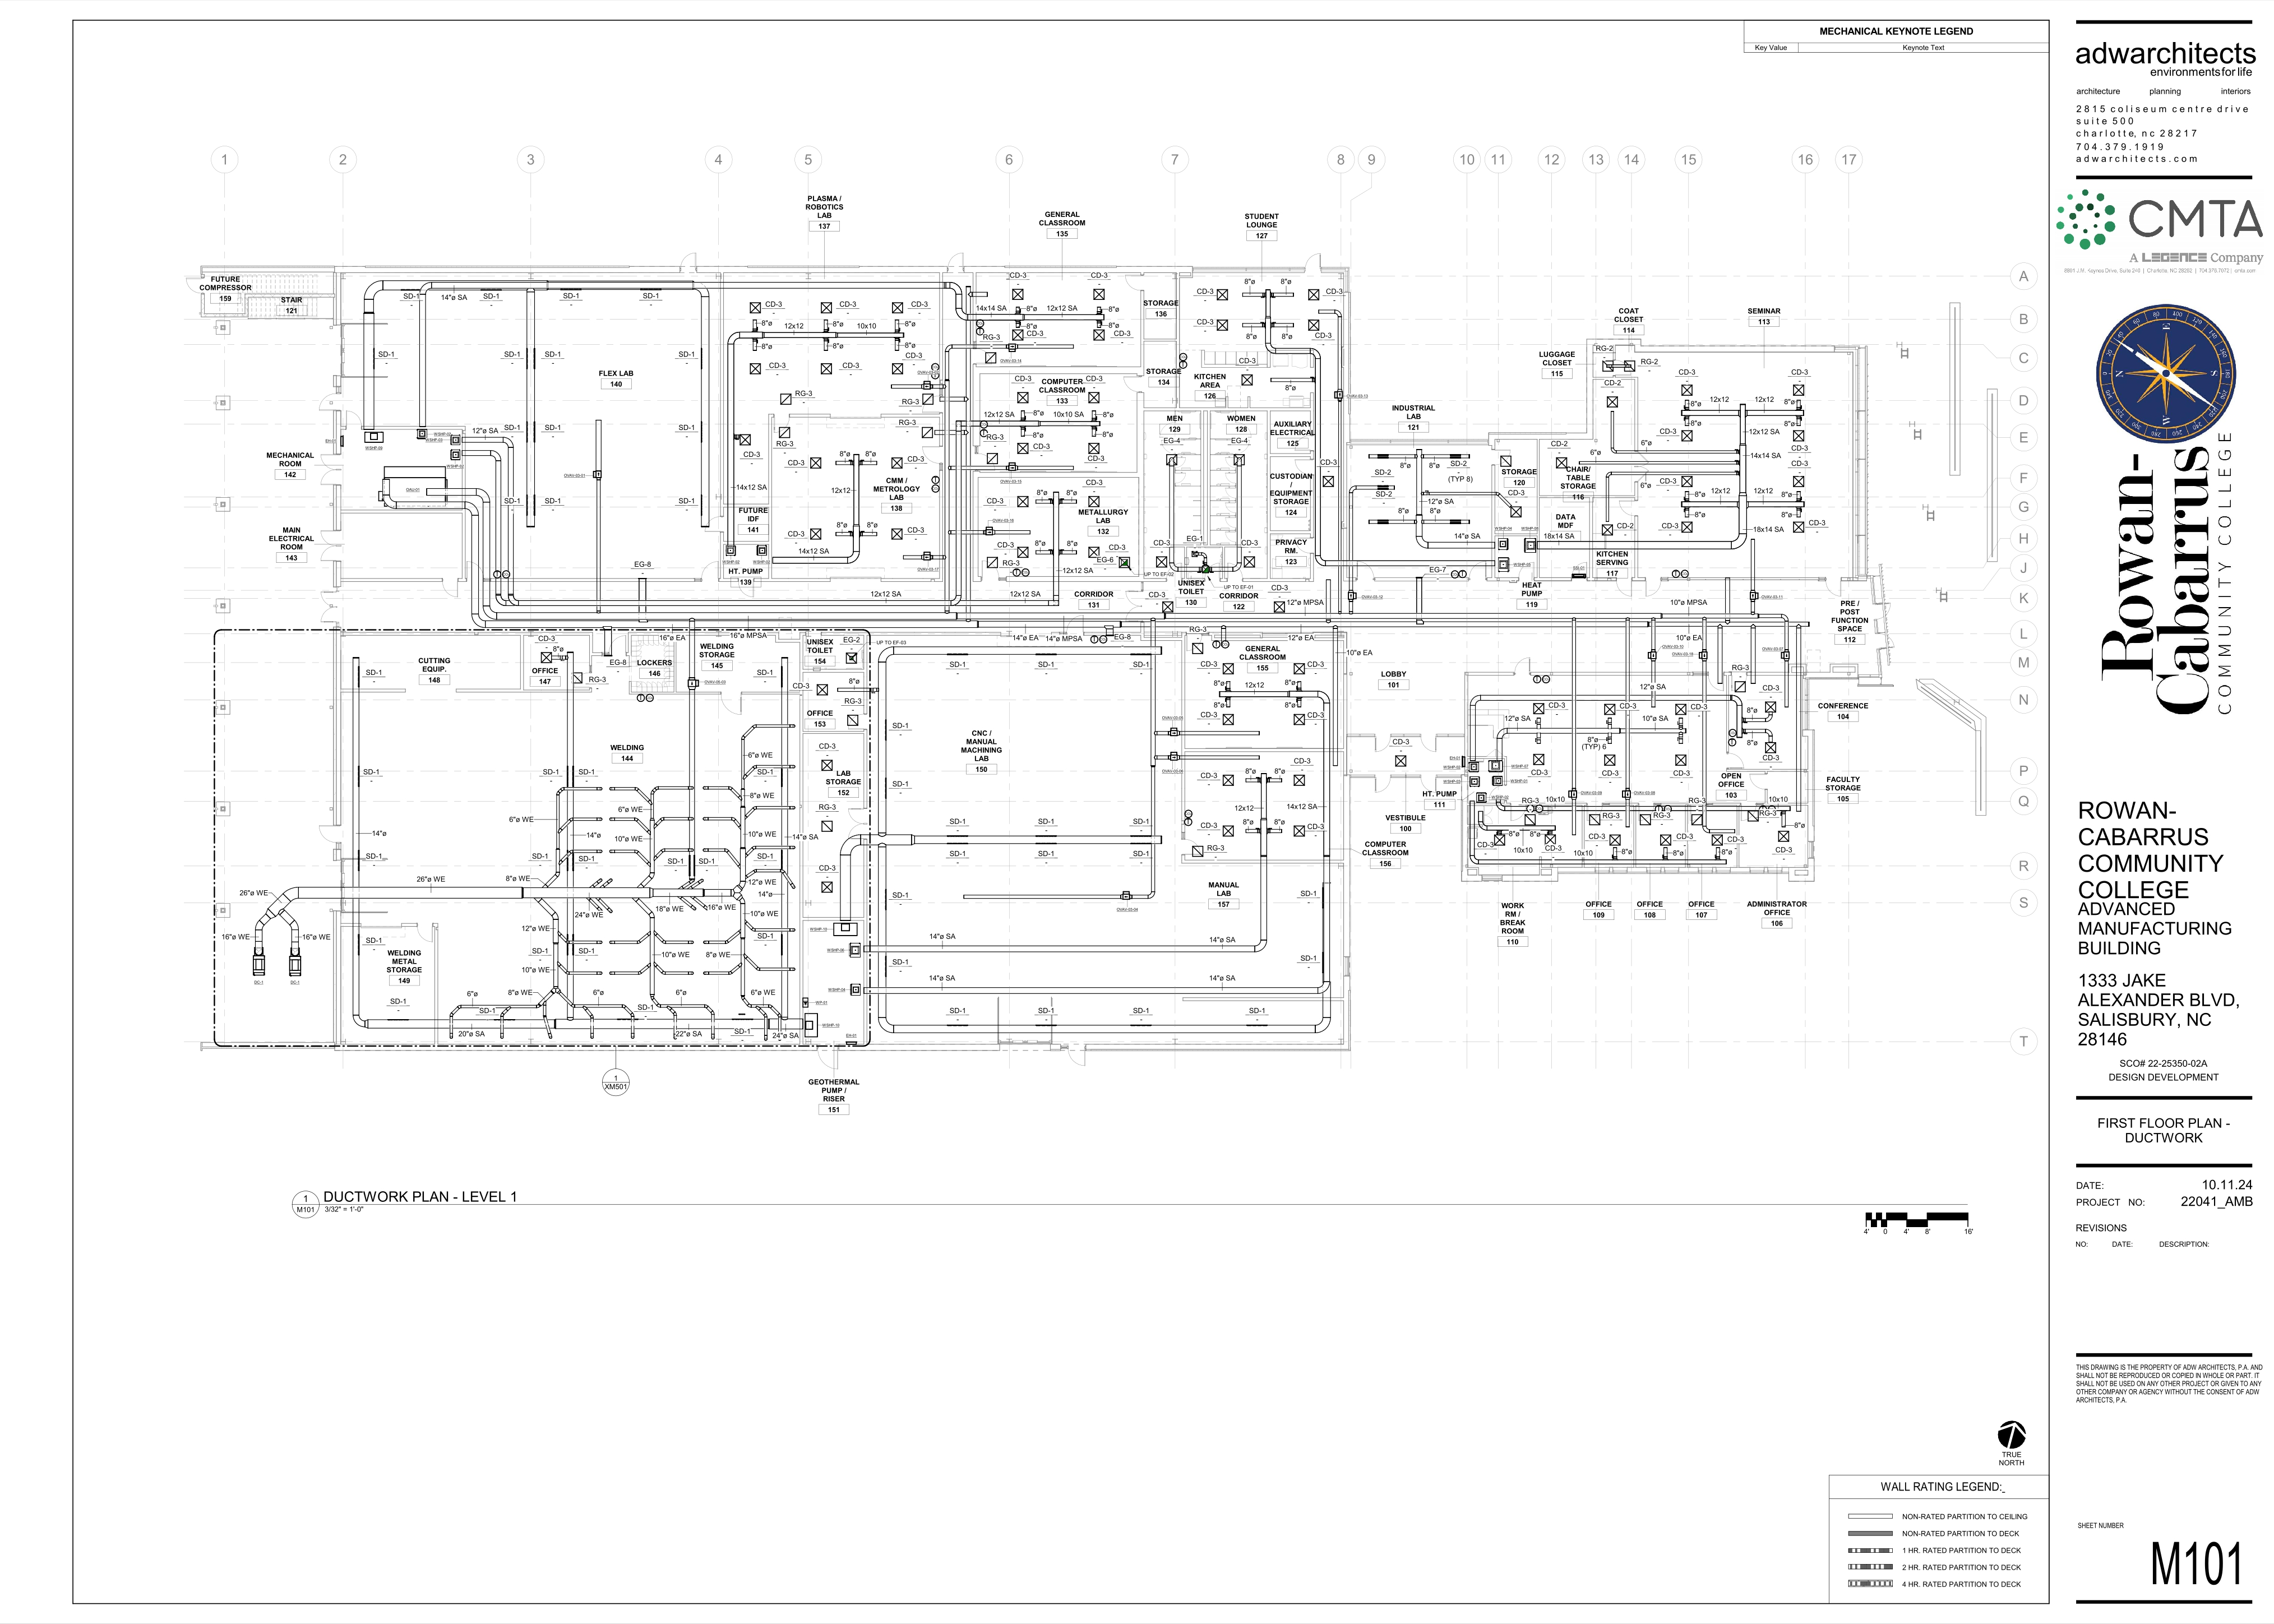return_diffuser: (921, 392, 935, 406), (986, 452, 1000, 466), (986, 555, 1000, 569), (1499, 453, 1513, 468), (779, 425, 791, 439), (821, 819, 833, 833), (845, 714, 859, 726), (1190, 845, 1204, 858), (1190, 642, 1204, 654), (1691, 812, 1703, 826), (1733, 680, 1747, 692), (921, 425, 933, 438), (1589, 814, 1601, 826), (1640, 814, 1652, 826), (1747, 810, 1759, 823), (779, 394, 791, 404), (1524, 814, 1536, 824)
supply_diffuser: (819, 301, 835, 316), (889, 301, 905, 315), (1214, 318, 1230, 332), (1791, 475, 1807, 489), (1010, 288, 1025, 302), (1307, 288, 1322, 302), (1306, 318, 1320, 332), (1010, 329, 1025, 343), (749, 362, 763, 376), (1016, 390, 1030, 404), (808, 527, 822, 541), (1242, 555, 1256, 569), (1292, 712, 1306, 726), (1160, 599, 1174, 613), (1394, 754, 1408, 768), (1492, 833, 1506, 847), (1659, 833, 1673, 847), (750, 301, 763, 315), (1091, 288, 1105, 301), (1216, 288, 1228, 302), (1241, 373, 1253, 387), (1091, 329, 1105, 341), (819, 362, 833, 374), (1606, 395, 1619, 410), (738, 434, 752, 446), (889, 457, 903, 469), (1016, 443, 1030, 455), (1088, 441, 1100, 455), (1016, 496, 1030, 508), (1088, 494, 1100, 508), (1016, 547, 1030, 559), (1155, 555, 1169, 568), (1680, 520, 1692, 534), (1680, 475, 1692, 489), (1792, 520, 1805, 534), (815, 684, 829, 696), (1221, 824, 1234, 838), (1221, 773, 1235, 786), (1221, 714, 1235, 726), (1292, 824, 1306, 837), (1292, 773, 1306, 786), (1221, 663, 1235, 675), (1272, 601, 1286, 613), (1322, 475, 1334, 489), (1532, 701, 1545, 715), (1543, 835, 1557, 847), (1603, 754, 1617, 766), (1710, 835, 1724, 847), (1764, 700, 1777, 714), (1777, 830, 1791, 842), (891, 362, 903, 374), (1088, 392, 1100, 404), (1680, 383, 1692, 395), (1792, 383, 1805, 395), (810, 457, 822, 469), (891, 527, 903, 540), (1088, 547, 1100, 559), (1555, 457, 1568, 469), (1510, 506, 1522, 518), (1601, 524, 1613, 536), (1680, 429, 1692, 441), (1792, 429, 1805, 441), (540, 652, 552, 664), (821, 881, 833, 893), (821, 759, 833, 772), (1293, 663, 1306, 675), (1532, 752, 1545, 765), (1610, 835, 1622, 847), (1603, 703, 1615, 715), (1675, 703, 1687, 715), (1675, 754, 1687, 766), (1764, 742, 1777, 754)
